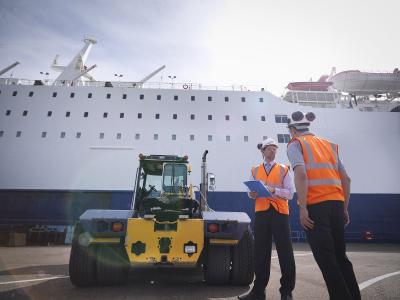helmet: (283, 107, 318, 138), (257, 128, 282, 162)
